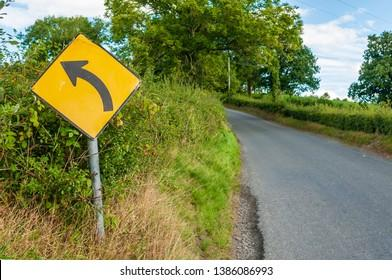Left hand curve: (39, 35, 131, 134)
